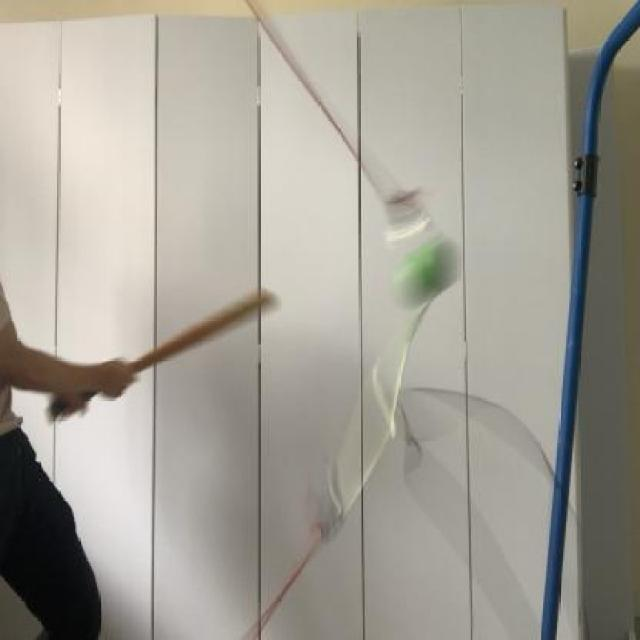baseball: (391, 231, 469, 309)
